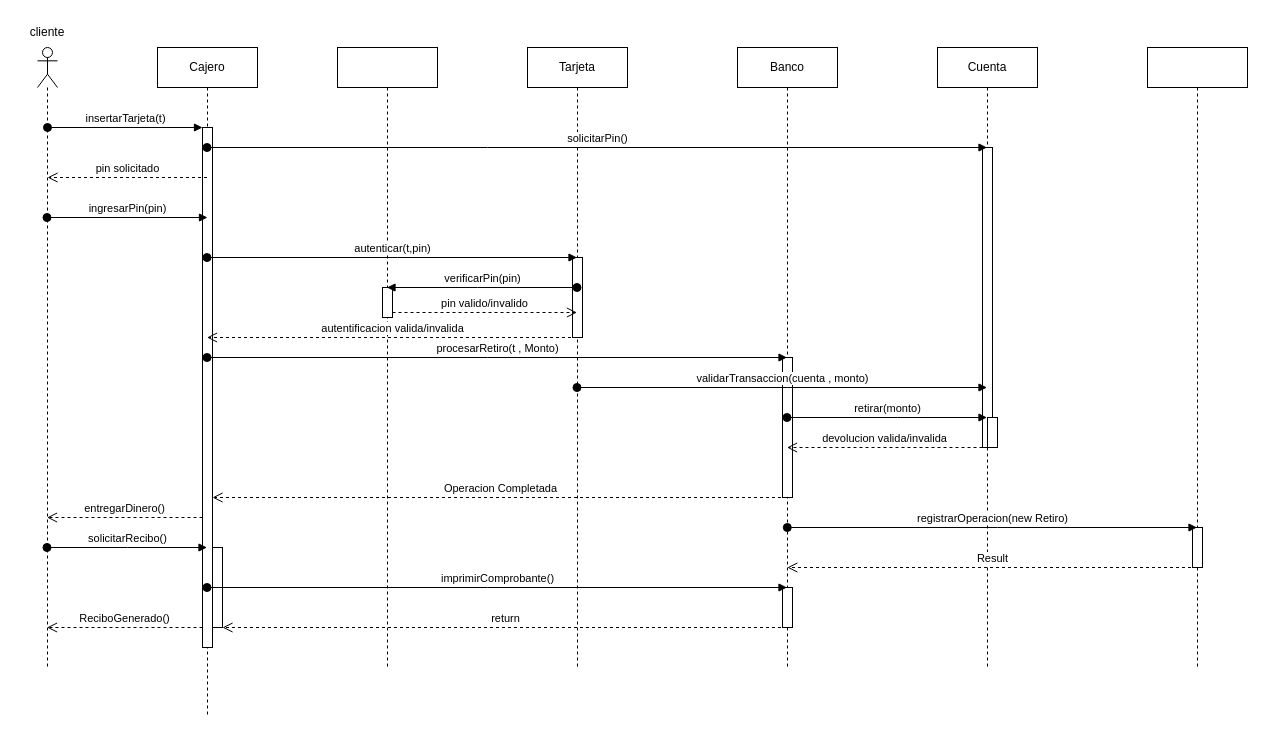
Image size: 1265x735. Some labels were removed from this diagram. The shapes that lost their labels are listed below. From the top down, each one's box as (x1, y1, x2, y2) in pixels, then its label:
(336, 46, 438, 668): Autentificacion Service
(1146, 46, 1248, 668): Registro Operaciones
